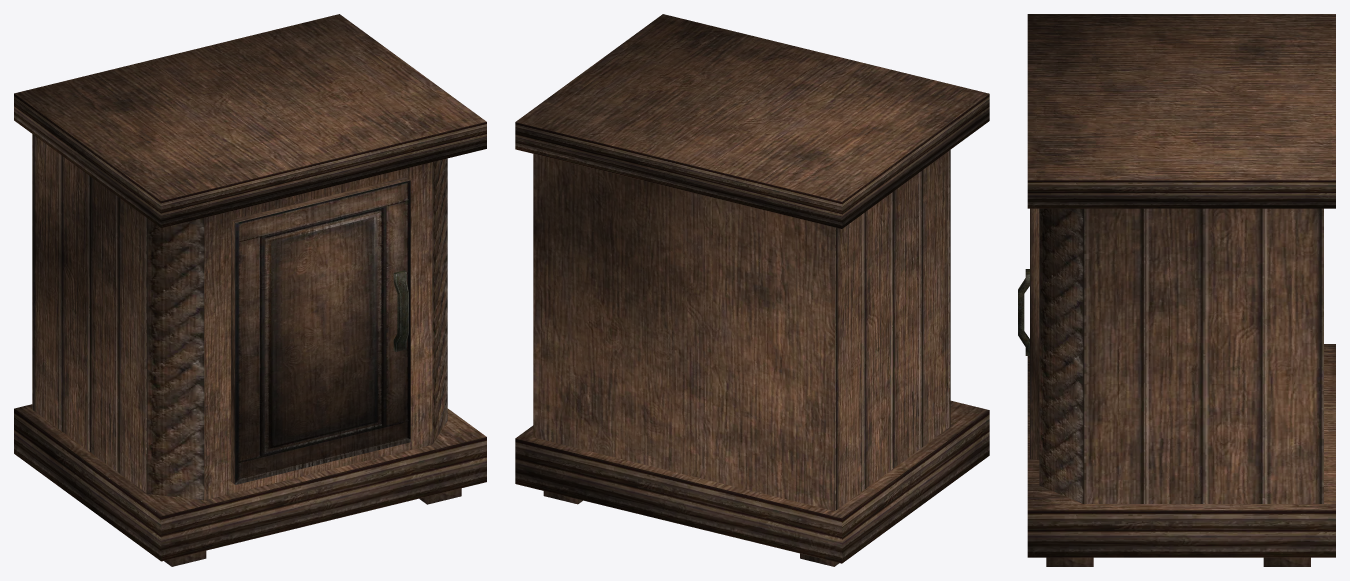
Rendered from GS_VOB_BEDCASE_ORANGE_01_2_KOZA.glb.
3 renders of one model, left to right at view 1: azimuth 30°, elevation 25°; view 2: azimuth 150°, elevation 25°; view 3: azimuth 270°, elevation 25°, orthographic. The views are drawn at different scales.
Visible parts, largest first — view 1: Mesh; view 2: Mesh; view 3: Mesh.
Boxes of the visible parts, x1,y1,x2,y2 form: Mesh: (14,14,486,566); Mesh: (515,14,989,566); Mesh: (1018,14,1335,566).
Bounding box in the file's own units: 0.8159 × 0.9034 × 0.6589.
Materials: 4 (4 with a texture image).
